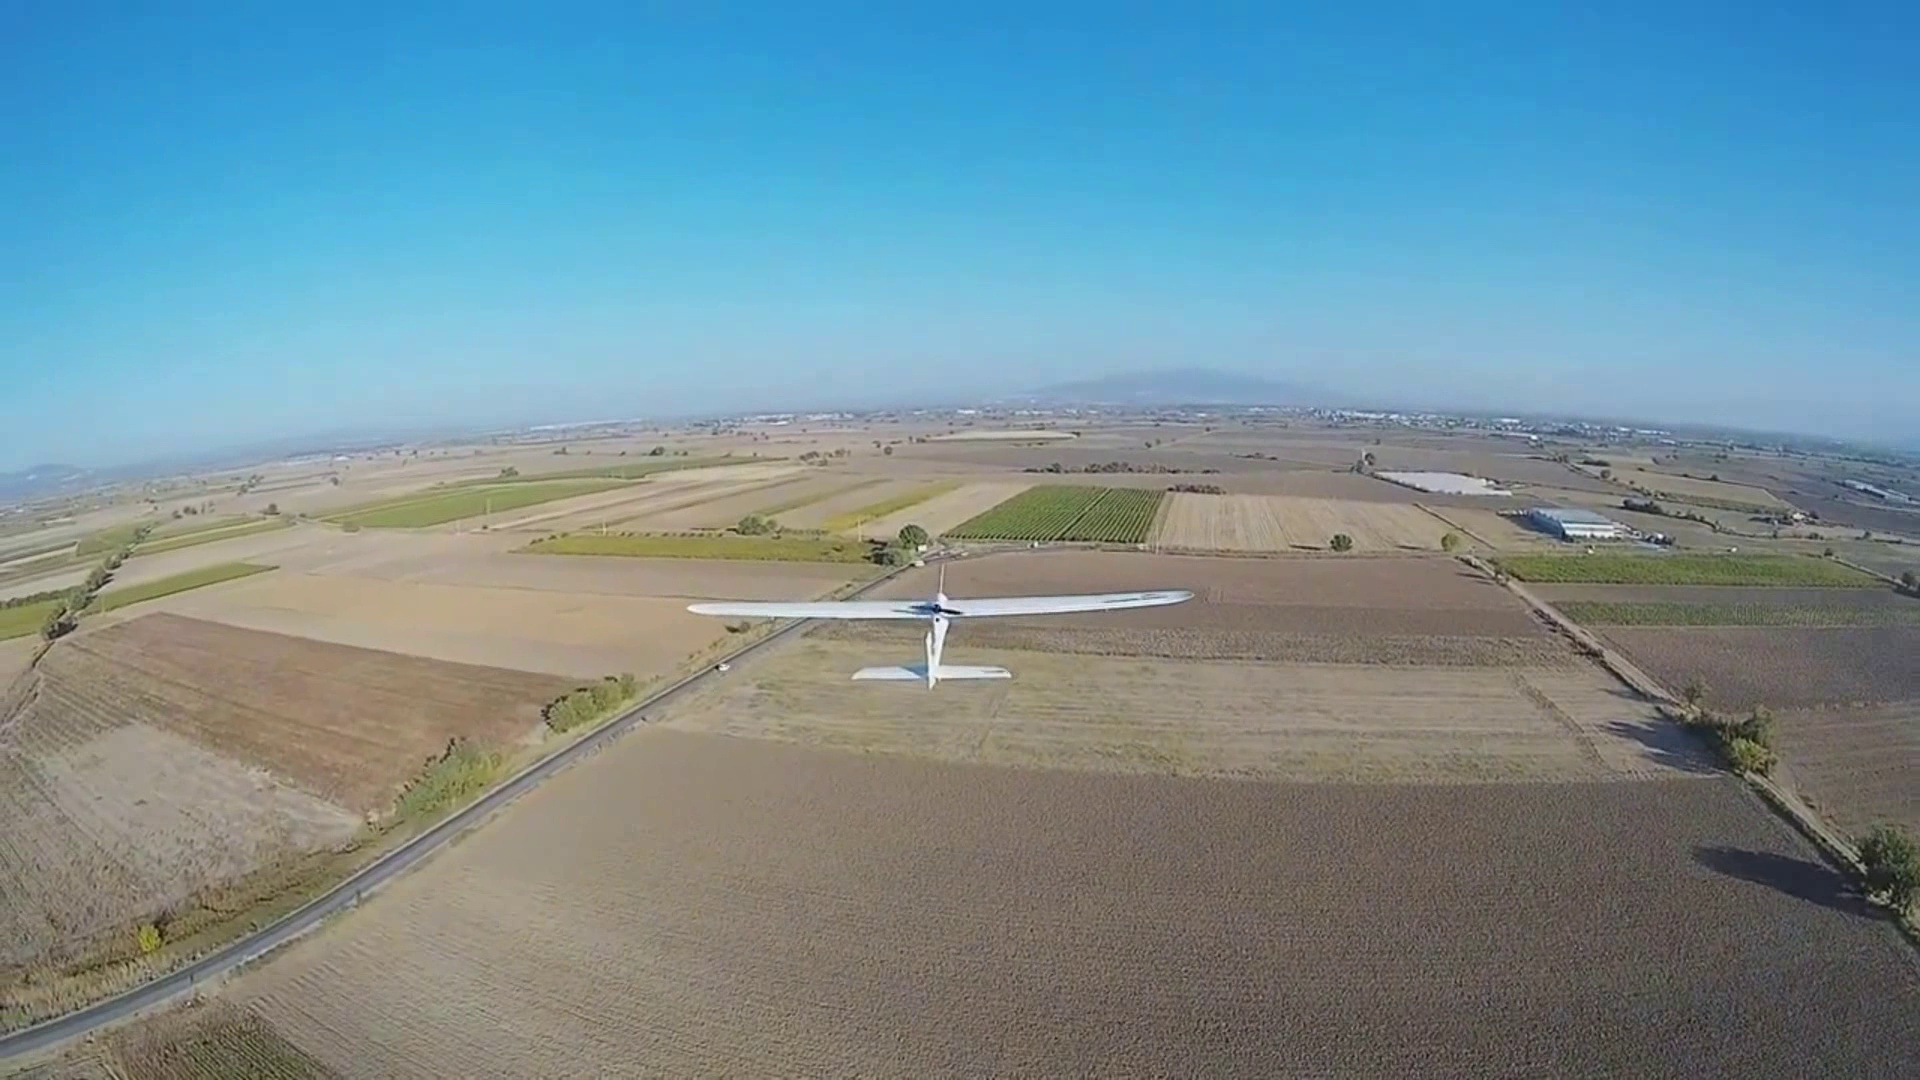airplane: (683, 567, 1195, 685)
